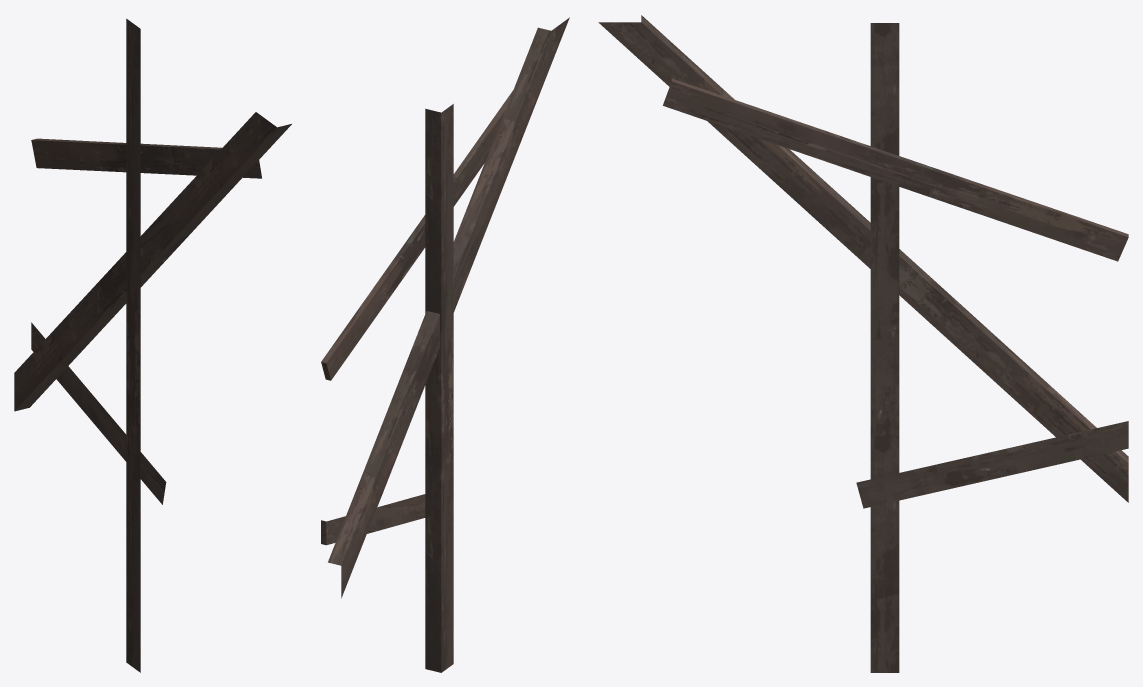
3 renders of one model, left to right at view 1: azimuth 30°, elevation 25°; view 2: azimuth 150°, elevation 25°; view 3: azimuth 270°, elevation 25°, orthographic. The views are drawn at different scales.
Parts seen in each view (by area): view 1: body0_model0_lod0_mesh0; view 2: body0_model0_lod0_mesh0; view 3: body0_model0_lod0_mesh0.
Part boxes in pixels (box(x1,y1,x2,y2)): body0_model0_lod0_mesh0: box(14, 18, 291, 672); body0_model0_lod0_mesh0: box(321, 17, 569, 672); body0_model0_lod0_mesh0: box(598, 15, 1128, 672).
Size of the model in its own units: 16.02 by 400 by 296.
Materials: 1 (1 with a texture image).
